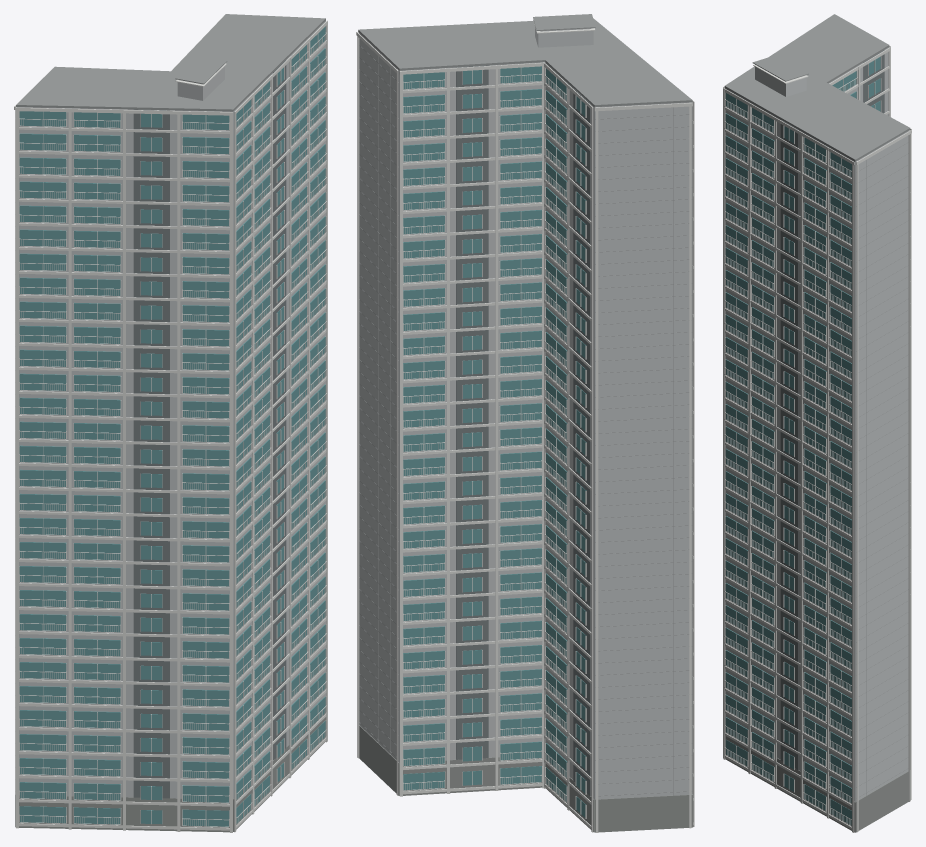
Rendered from bespoke-jamsil-ricenz-248.glb.
The picture shows the model from 3 angles, left to right: view 1: azimuth 30°, elevation 25°; view 2: azimuth 150°, elevation 25°; view 3: azimuth 270°, elevation 25°; orthographic projection. The views are drawn at different scales.
Parts seen in each view (by area): view 1: Ricenz248_editable_Ricenz248_turquoise_balcony_glazing, Ricenz248_editable_Ricenz248_light_grey_solid_wall, Ricenz248_white_exact_chunk_1, Ricenz248_white_exact_chunk_0, Ricenz248_editable_Ricenz248_narrow_charcoal_service_strips, Ricenz248_white_exact_chunk_2, Ricenz248_white_exact_chunk_3, Ricenz248_editable_Ricenz248_modest_grey_flat_roof_caps, Ricenz248_editable_Ricenz248_muted_ground_wall; view 2: Ricenz248_editable_Ricenz248_light_grey_solid_wall, Ricenz248_editable_Ricenz248_turquoise_balcony_glazing, Ricenz248_white_exact_chunk_4, Ricenz248_white_exact_chunk_3, Ricenz248_editable_Ricenz248_modest_grey_flat_roof_caps, Ricenz248_editable_Ricenz248_narrow_charcoal_service_strips, Ricenz248_editable_Ricenz248_muted_ground_wall, Ricenz248_white_exact_chunk_0, Ricenz248_white_exact_chunk_1; view 3: Ricenz248_editable_Ricenz248_light_grey_solid_wall, Ricenz248_editable_Ricenz248_turquoise_balcony_glazing, Ricenz248_white_exact_chunk_2, Ricenz248_white_exact_chunk_3, Ricenz248_editable_Ricenz248_modest_grey_flat_roof_caps, Ricenz248_white_exact_chunk_1, Ricenz248_editable_Ricenz248_narrow_charcoal_service_strips, Ricenz248_editable_Ricenz248_muted_ground_wall, Ricenz248_white_exact_chunk_4.
Boxes of the visible parts, <box> form: Ricenz248_editable_Ricenz248_turquoise_balcony_glazing: <box>19,26,325,826</box>; Ricenz248_editable_Ricenz248_light_grey_solid_wall: <box>16,21,325,798</box>; Ricenz248_white_exact_chunk_1: <box>16,98,271,832</box>; Ricenz248_white_exact_chunk_0: <box>14,68,177,829</box>; Ricenz248_editable_Ricenz248_narrow_charcoal_service_strips: <box>133,60,286,798</box>; Ricenz248_white_exact_chunk_2: <box>254,44,326,792</box>; Ricenz248_white_exact_chunk_3: <box>234,20,327,832</box>; Ricenz248_editable_Ricenz248_modest_grey_flat_roof_caps: <box>16,14,325,111</box>; Ricenz248_editable_Ricenz248_muted_ground_wall: <box>15,712,325,832</box>; Ricenz248_editable_Ricenz248_light_grey_solid_wall: <box>358,27,692,799</box>; Ricenz248_editable_Ricenz248_turquoise_balcony_glazing: <box>403,66,586,817</box>; Ricenz248_white_exact_chunk_4: <box>399,20,595,832</box>; Ricenz248_white_exact_chunk_3: <box>356,31,542,795</box>; Ricenz248_editable_Ricenz248_modest_grey_flat_roof_caps: <box>358,14,692,796</box>; Ricenz248_editable_Ricenz248_narrow_charcoal_service_strips: <box>456,65,590,795</box>; Ricenz248_editable_Ricenz248_muted_ground_wall: <box>359,725,693,832</box>; Ricenz248_white_exact_chunk_0: <box>594,102,693,832</box>; Ricenz248_white_exact_chunk_1: <box>692,100,694,826</box>; Ricenz248_editable_Ricenz248_light_grey_solid_wall: <box>724,47,909,801</box>; Ricenz248_editable_Ricenz248_turquoise_balcony_glazing: <box>725,56,880,825</box>; Ricenz248_white_exact_chunk_2: <box>750,107,851,829</box>; Ricenz248_white_exact_chunk_3: <box>723,88,911,832</box>; Ricenz248_editable_Ricenz248_modest_grey_flat_roof_caps: <box>724,14,910,798</box>; Ricenz248_white_exact_chunk_1: <box>723,86,774,785</box>; Ricenz248_editable_Ricenz248_narrow_charcoal_service_strips: <box>780,50,884,769</box>; Ricenz248_editable_Ricenz248_muted_ground_wall: <box>725,732,910,832</box>; Ricenz248_white_exact_chunk_4: <box>753,47,911,799</box>.
Size of the model in its own units: 41.53 by 90.96 by 22.57.
